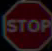Stop: (2, 1, 48, 44)
